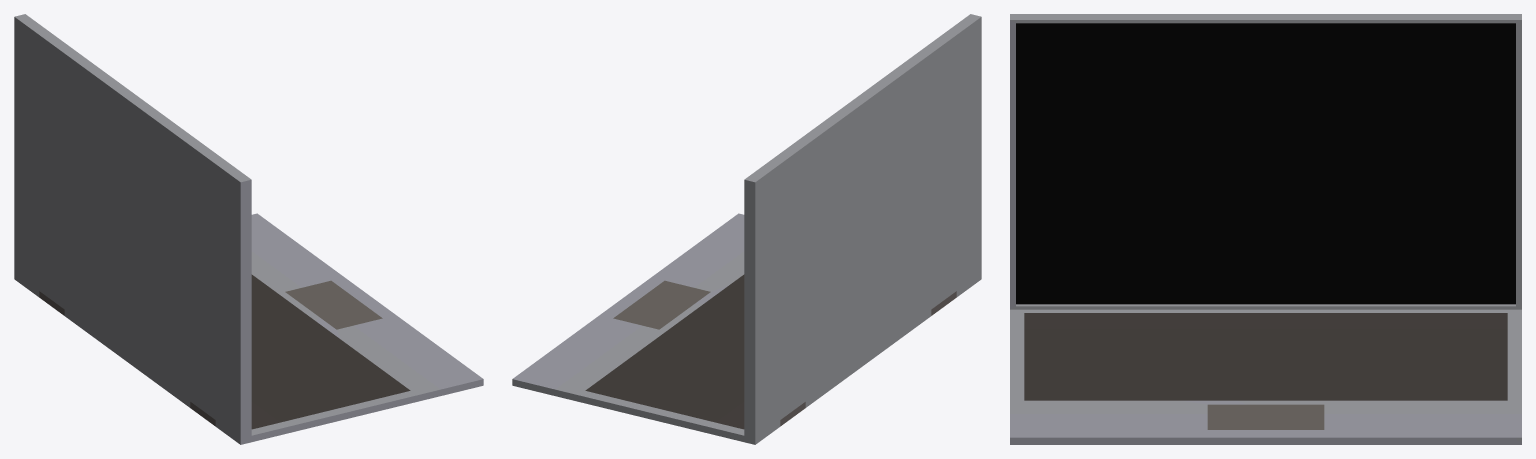
The model's file is Laptop.fbx.
3 views of the same model, side by side, from view 1: azimuth 30°, elevation 25°; view 2: azimuth 150°, elevation 25°; view 3: azimuth 270°, elevation 25° (orthographic). The views are drawn at different scales.
Parts seen in each view (by area): view 1: Laptop; view 2: Laptop; view 3: Laptop.
Boxes of the visible parts, x1=… form: Laptop: x1=14, y1=14, x2=483, y2=444; Laptop: x1=512, y1=14, x2=981, y2=444; Laptop: x1=1010, y1=14, x2=1521, y2=444.
Bounding box in the file's own units: 44.83 × 46.3 × 72.33.
Materials: 1 (1 with a texture image).
